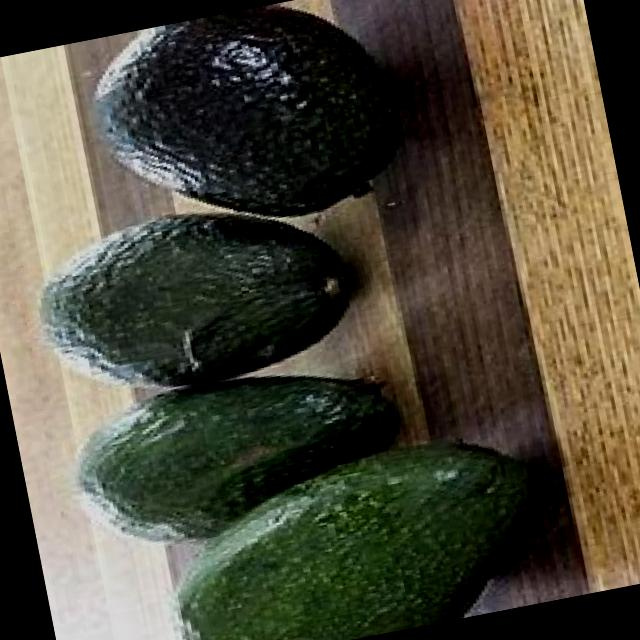avocado: (149, 419, 565, 640), (79, 0, 428, 251), (24, 182, 364, 423), (64, 346, 416, 563)
